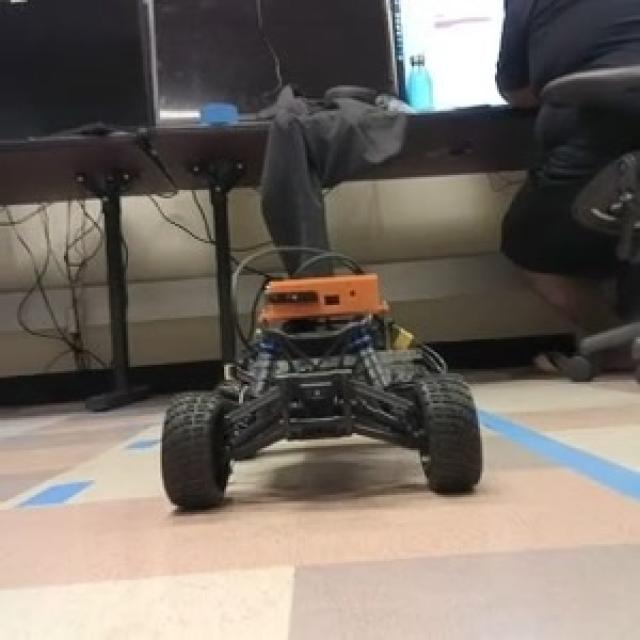obstacle: (149, 263, 496, 522)
